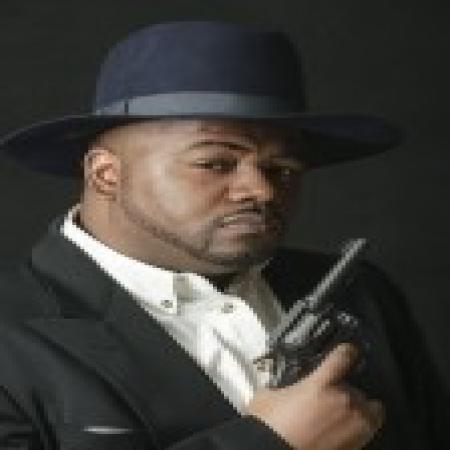Pistol: (250, 224, 398, 396)
